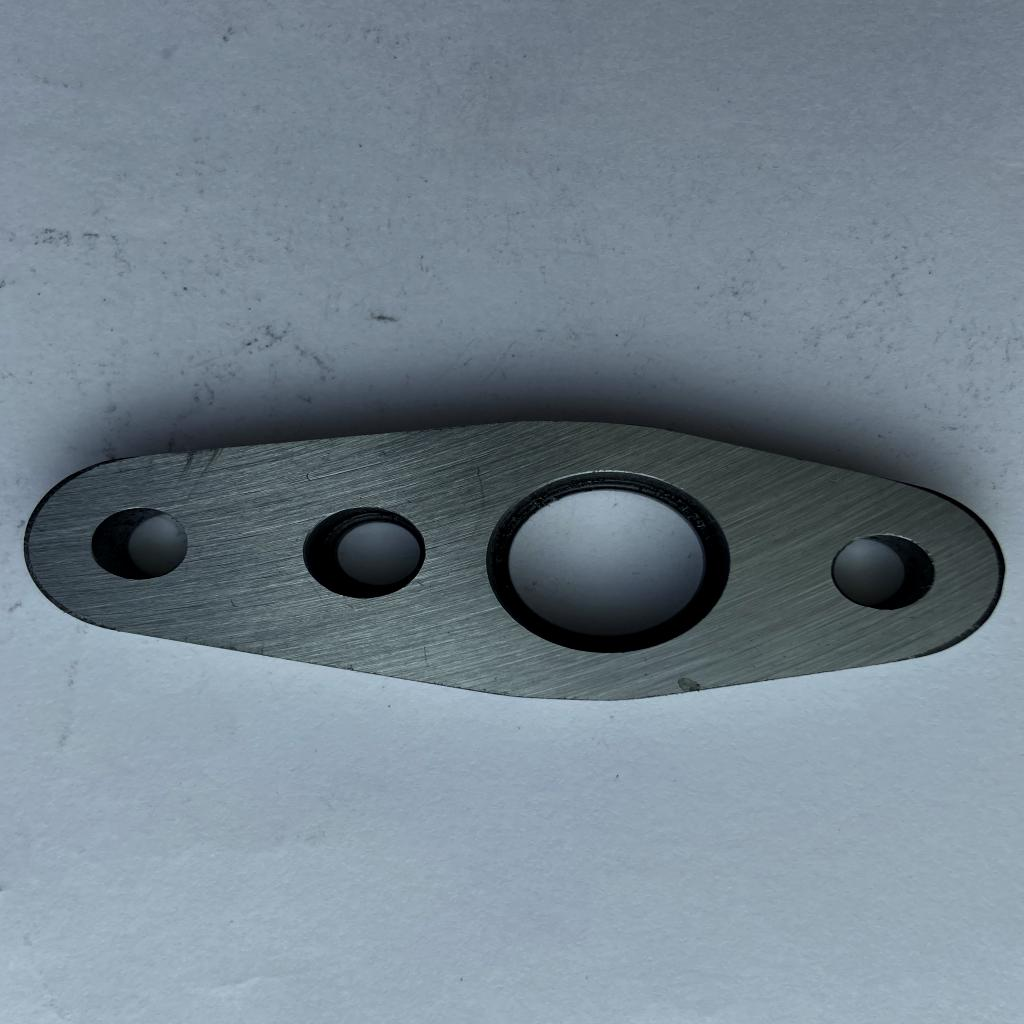lines: (182, 450, 222, 482), (472, 466, 486, 524)
